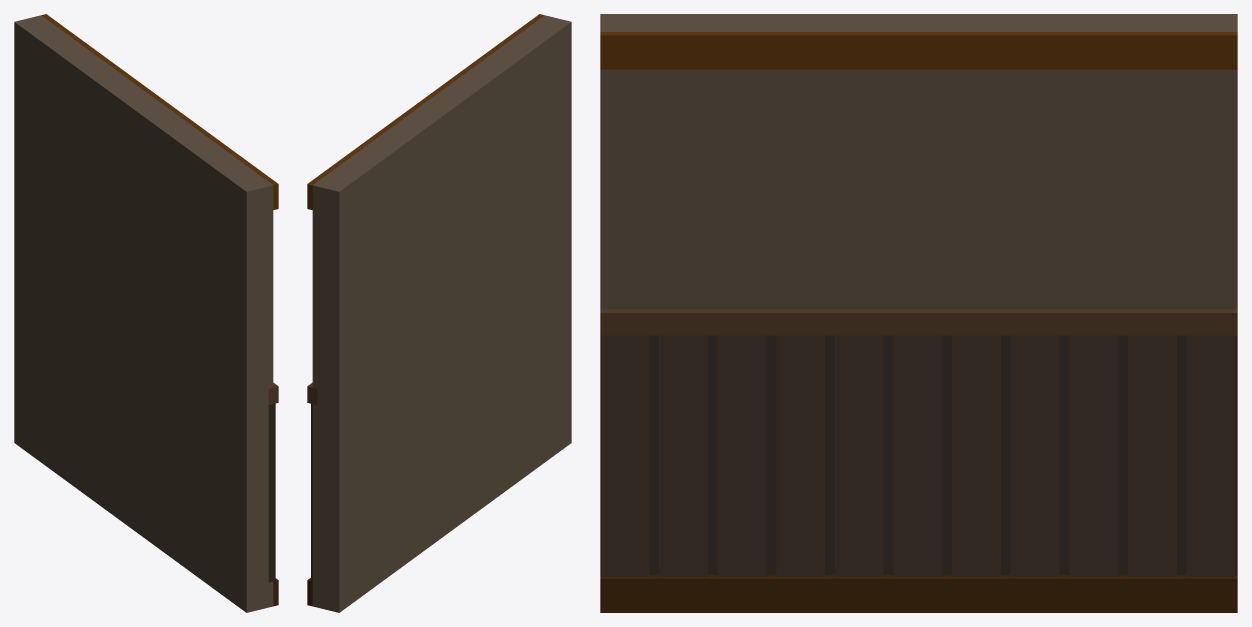
File: Wall_3.fbx
3 renders of one model, left to right at view 1: azimuth 30°, elevation 25°; view 2: azimuth 150°, elevation 25°; view 3: azimuth 270°, elevation 25°, orthographic. The views are drawn at different scales.
Visible parts, largest first — view 1: Wall_3; view 2: Wall_3; view 3: Wall_3.
Boxes of the visible parts, bbox=[...] form: Wall_3: bbox=[14, 14, 278, 612]; Wall_3: bbox=[307, 14, 571, 612]; Wall_3: bbox=[600, 14, 1237, 612].
Size of the model in its own units: 0.2392 by 3 by 3.
